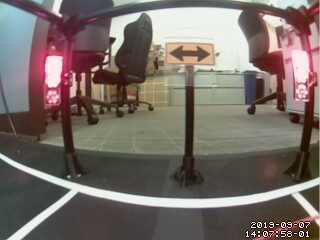Left_Right_sign: (163, 40, 220, 67)
Traffic_light_red: (44, 53, 64, 102), (293, 52, 310, 98)
